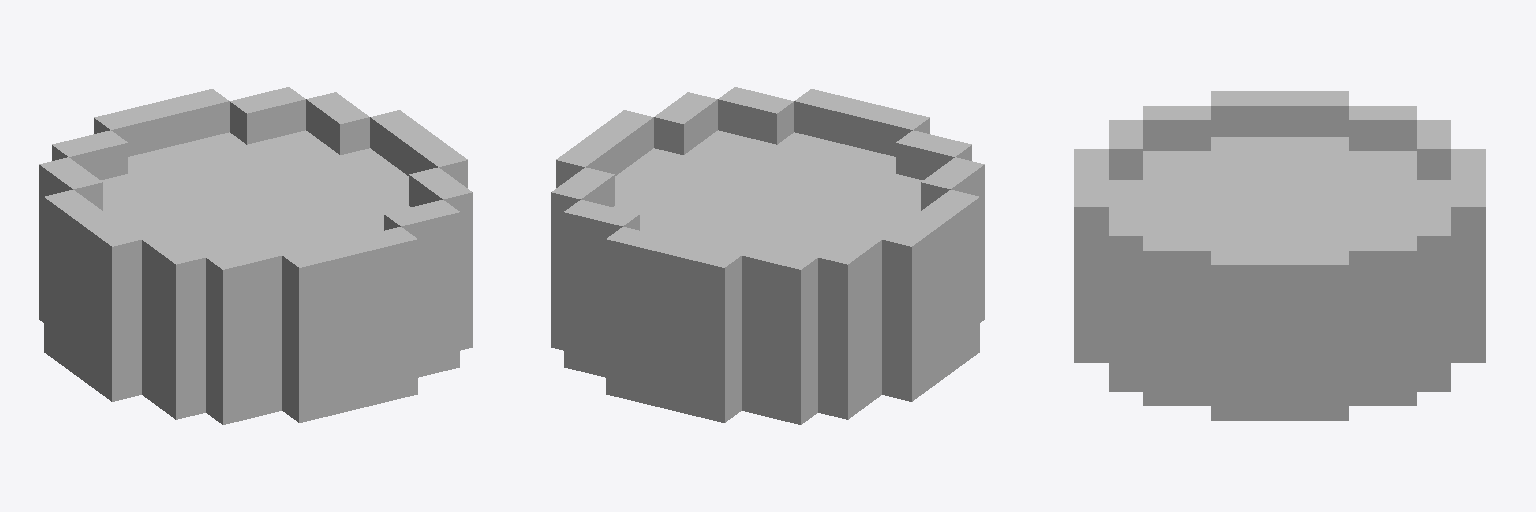
File: cooking_cake_pan_fill.obj
3 views of the same model, side by side, from view 1: azimuth 30°, elevation 25°; view 2: azimuth 150°, elevation 25°; view 3: azimuth 270°, elevation 25° (orthographic).
Visible parts, largest first — view 1: node_0_0_0, node_0_0_0.002; view 2: node_0_0_0, node_0_0_0.002; view 3: node_0_0_0, node_0_0_0.002.
Part boxes in pixels (bbox=[...]): node_0_0_0: bbox=[39, 87, 472, 424]; node_0_0_0.002: bbox=[101, 130, 410, 256]; node_0_0_0: bbox=[551, 87, 984, 424]; node_0_0_0.002: bbox=[613, 130, 922, 256]; node_0_0_0: bbox=[1074, 91, 1485, 420]; node_0_0_0.002: bbox=[1109, 137, 1450, 250].
Bounding box in the file's own units: 0.75 × 0.3125 × 0.75.